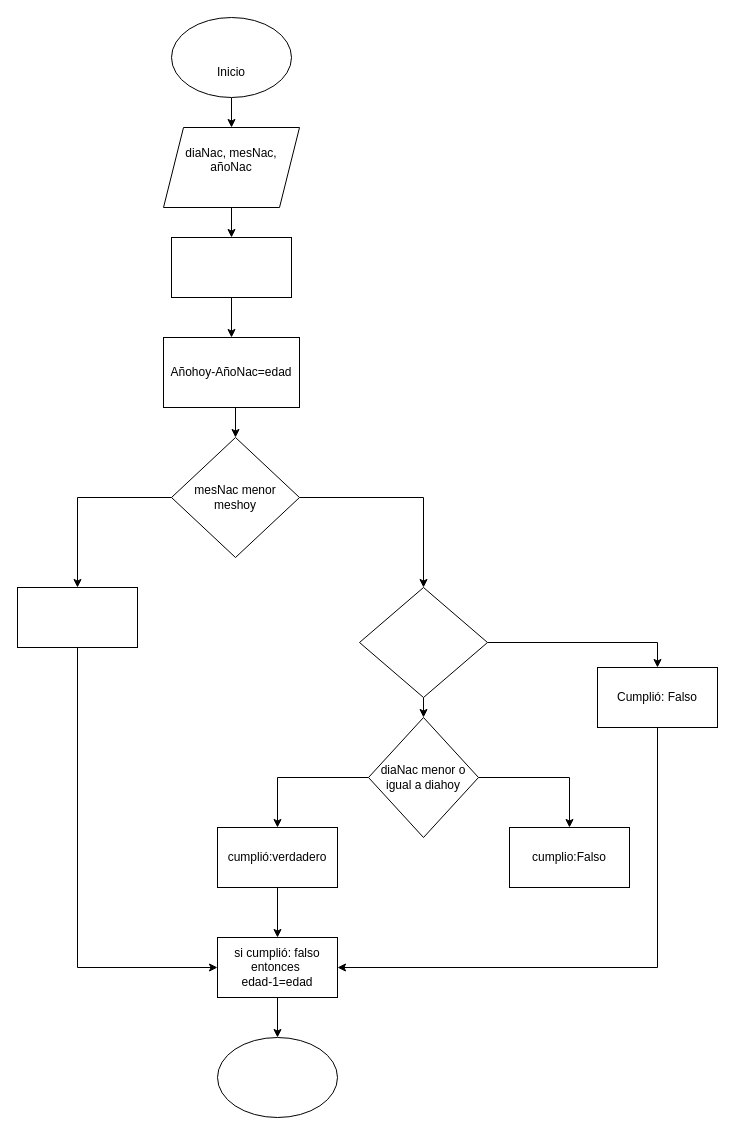
The diagram is 735 pixels wide and 1135 high, and some of its shapes have lost their labels. The shapes that lost their labels are listed below. From the top down, each one's centre as x and y in pixels, then its label:
At point 231,267: "Diahoy:5 Meshoy:8 Añohoy:2026".
At point 77,617: "Cumplió: verdad".
At point 423,642: "MesNac mayor que Meshoy?".
At point 277,1077: "Fin".
